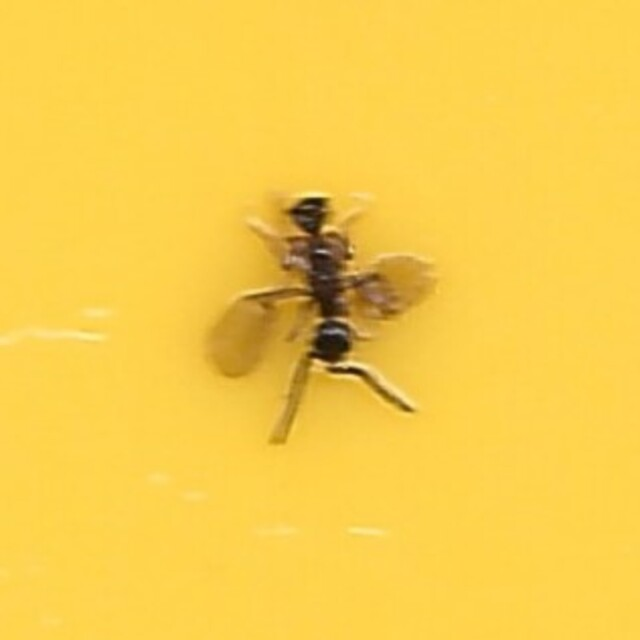Hymenoptera: (203, 190, 437, 450)
